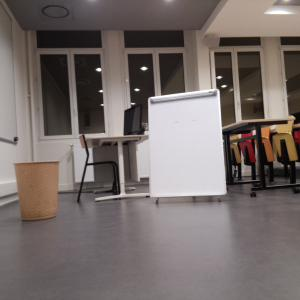big: (148, 90, 228, 202)
medium: (13, 161, 59, 222)
